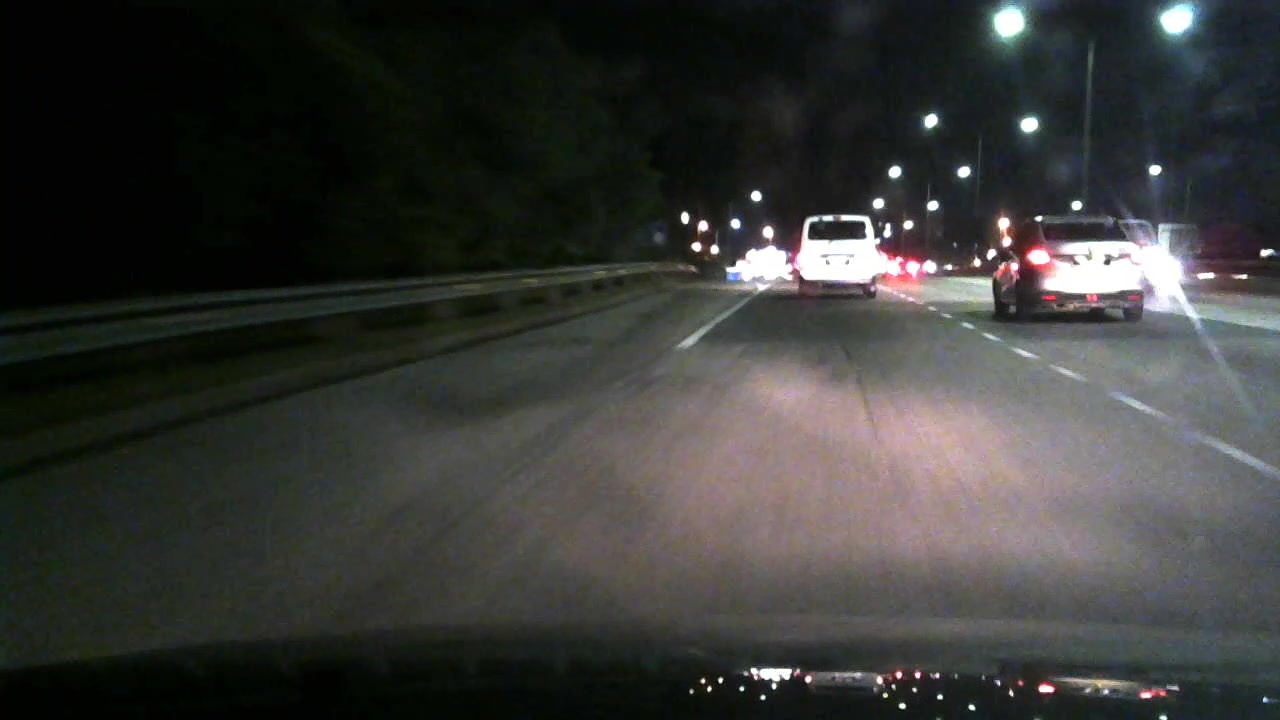Car: (980, 206, 1151, 330), (788, 202, 884, 302)
